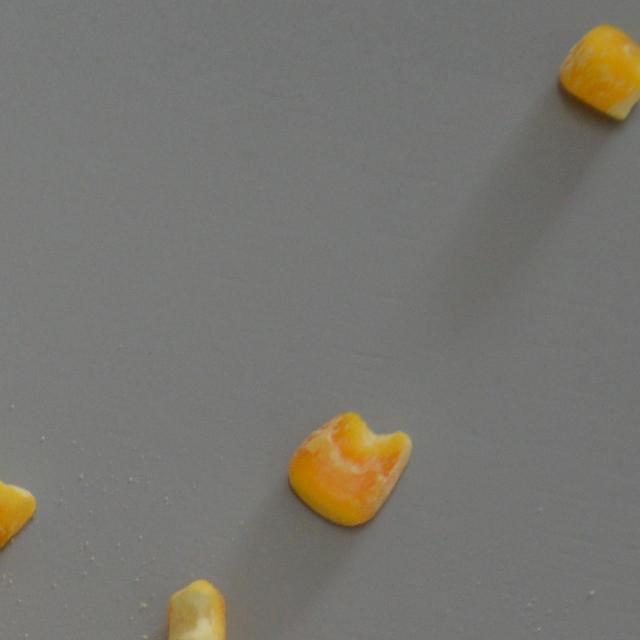pelicula: (288, 409, 412, 526), (554, 19, 640, 122), (164, 576, 227, 640), (0, 458, 34, 564)
